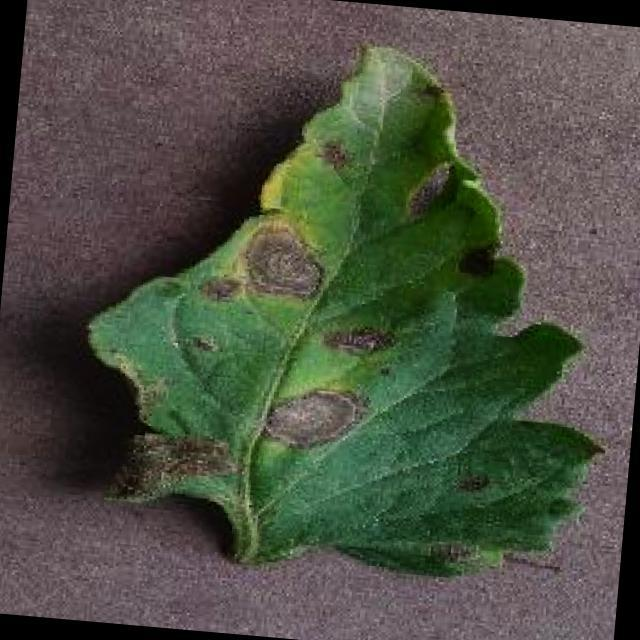Tomato Early blight leaf: (58, 19, 636, 602)
